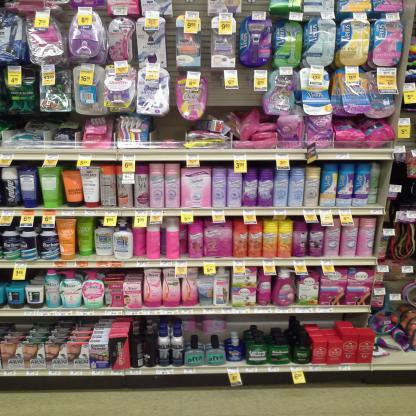Void: (208, 91, 258, 111), (152, 117, 185, 141), (392, 346, 414, 363)
